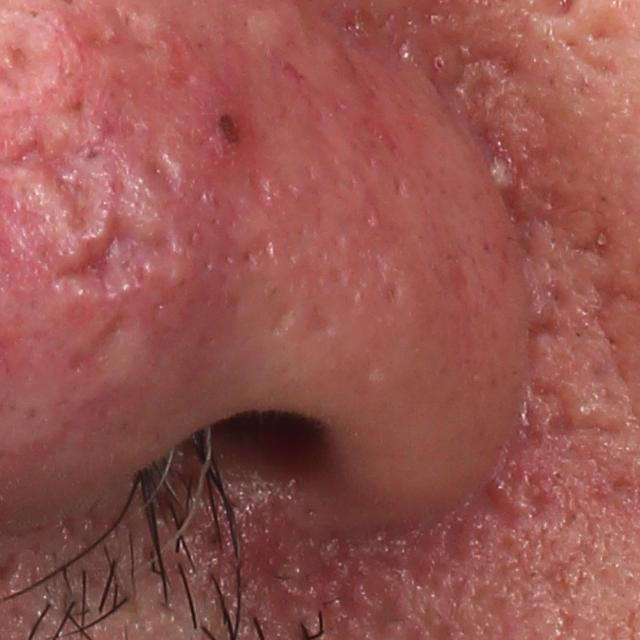atrophic_scar: (56, 173, 166, 292), (6, 127, 96, 236), (103, 97, 185, 195), (60, 308, 141, 383), (57, 90, 119, 172), (517, 376, 581, 445), (569, 204, 626, 269), (524, 317, 568, 365)
papule: (182, 85, 256, 163)
pustule: (483, 151, 521, 198)
